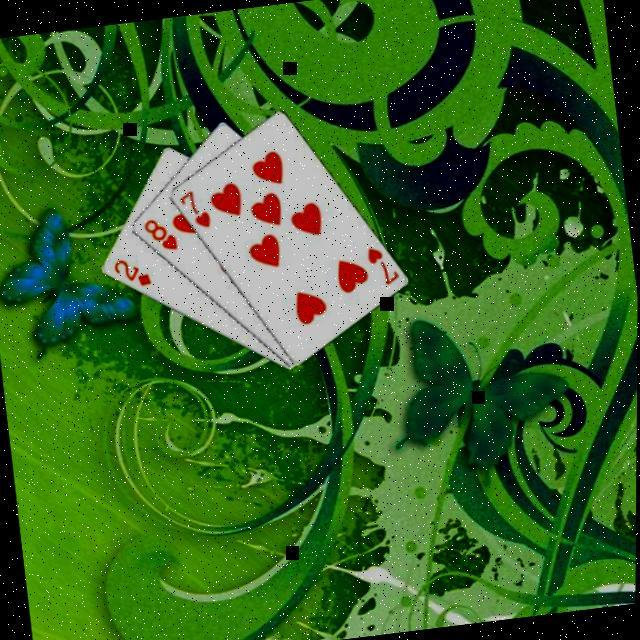2D: (110, 251, 156, 290)
7H: (364, 239, 405, 288), (176, 182, 215, 231)
8H: (141, 211, 182, 255)
